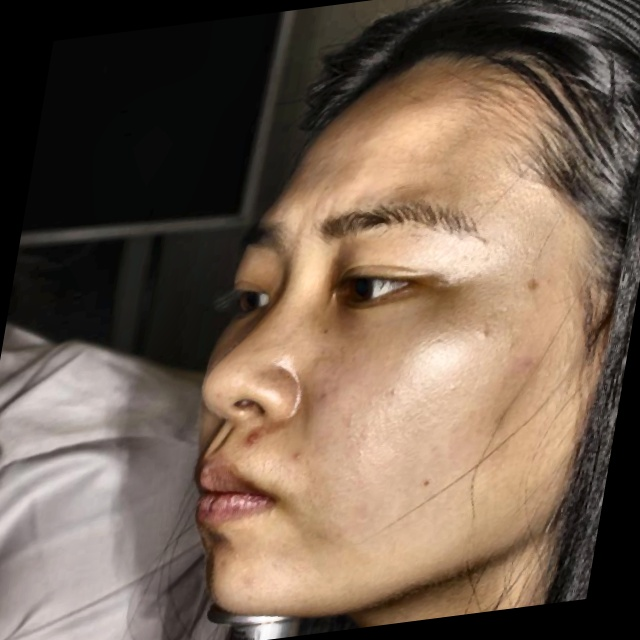comedone: (239, 426, 265, 450)
